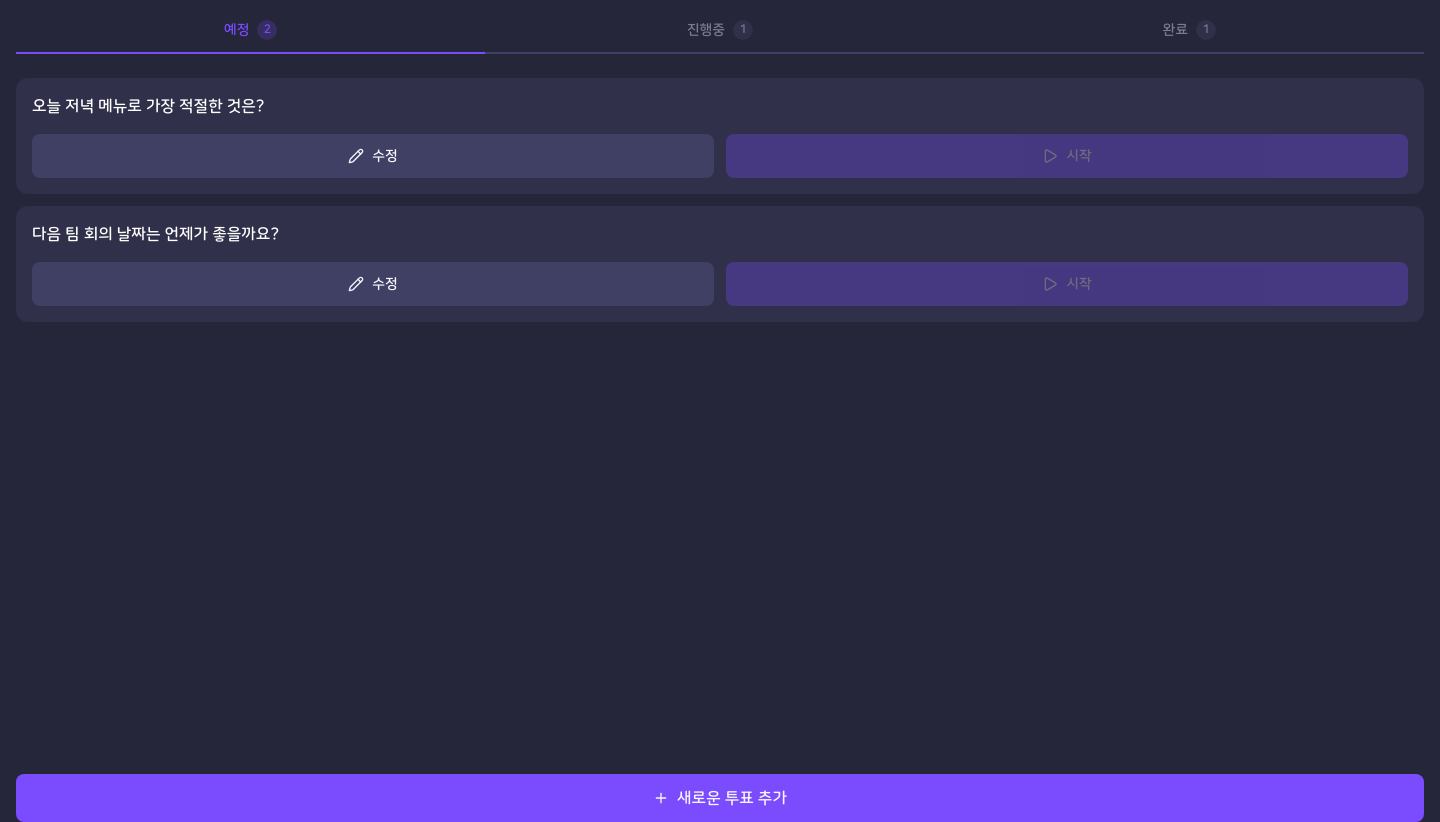
Test: PollManagementTabs › 진행중 탭으로 이동하면 활성 투표 내용이 보인다
Click the tab "진행중 1": (720, 32) x1=485 y1=12 x2=955 y2=52
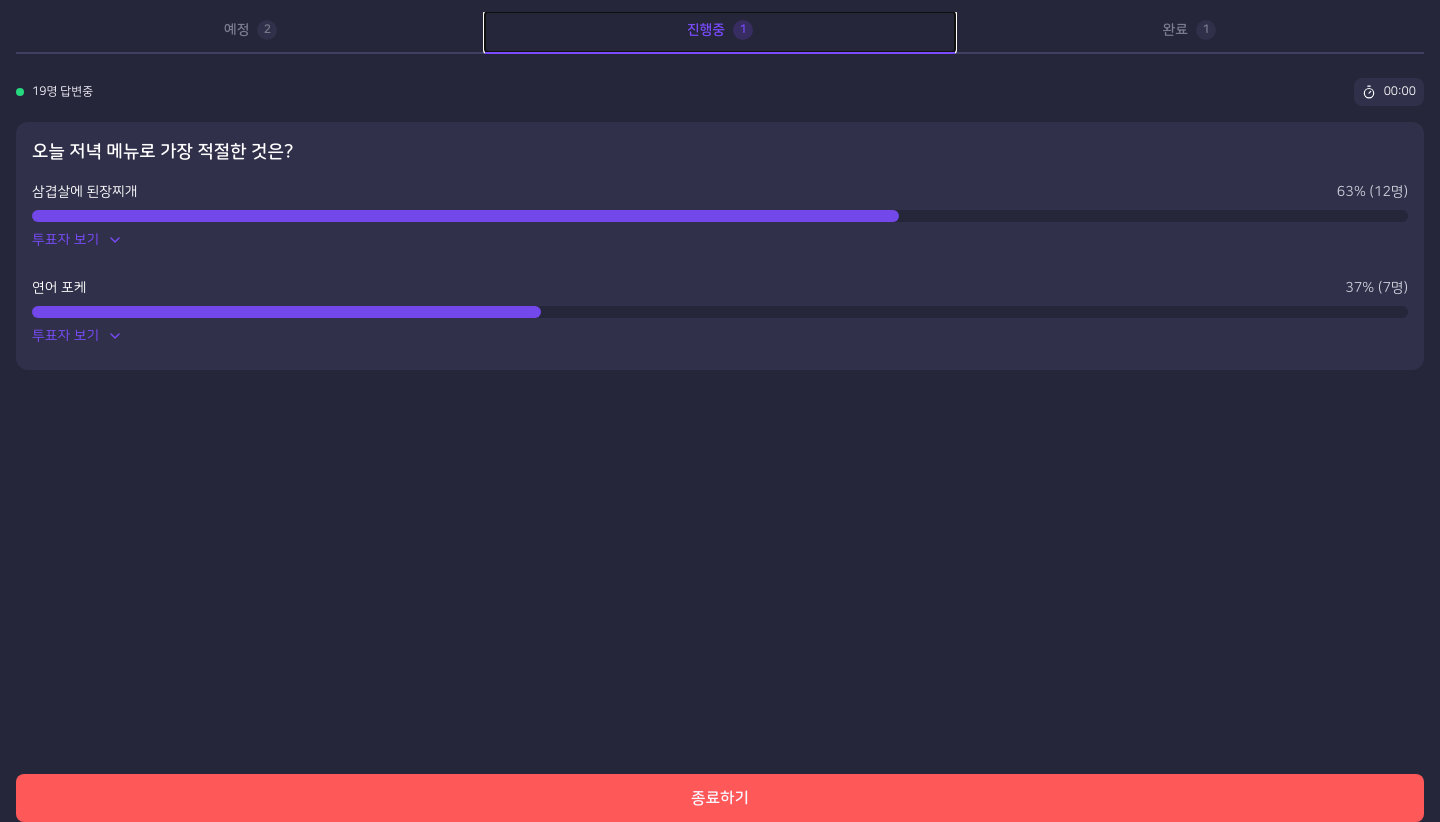
Expected: the heading "오늘 저녁 메뉴로 가장 적절한 것은?" is shown, x1=32 y1=142 x2=294 y2=162
Now the text "삼겹살에 된장찌개" is shown, box x1=32 y1=182 x2=137 y2=202
Now the text "연어 포케" is shown, box x1=32 y1=278 x2=86 y2=298
